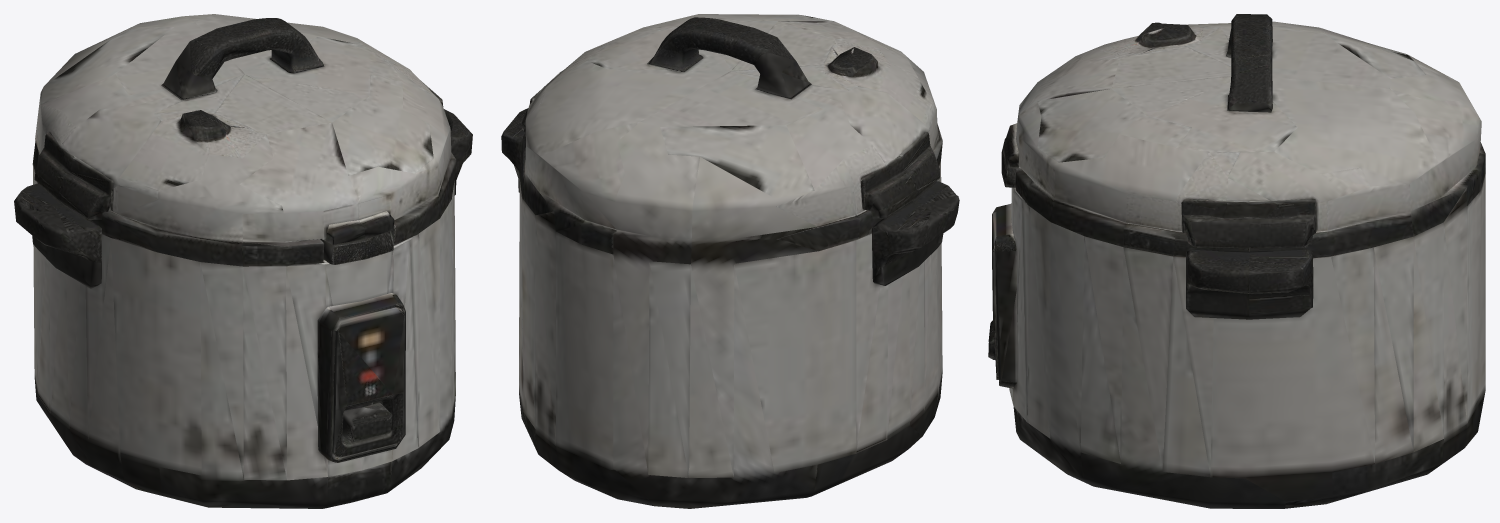
File: p7-rice-cooker-t25.glb
The picture shows the model from 3 angles, left to right: view 1: azimuth 30°, elevation 25°; view 2: azimuth 150°, elevation 25°; view 3: azimuth 270°, elevation 25°; orthographic projection.
Visible parts, largest first — view 1: p7-rice-cooker-t25; view 2: p7-rice-cooker-t25; view 3: p7-rice-cooker-t25.
Boxes of the visible parts, x1,y1,x2,y2 form: p7-rice-cooker-t25: (14,14,472,508); p7-rice-cooker-t25: (501,14,959,508); p7-rice-cooker-t25: (988,14,1485,508).
Bounding box in the file's own units: 0.45 × 0.4 × 0.45.
1 material, 1 textured.
